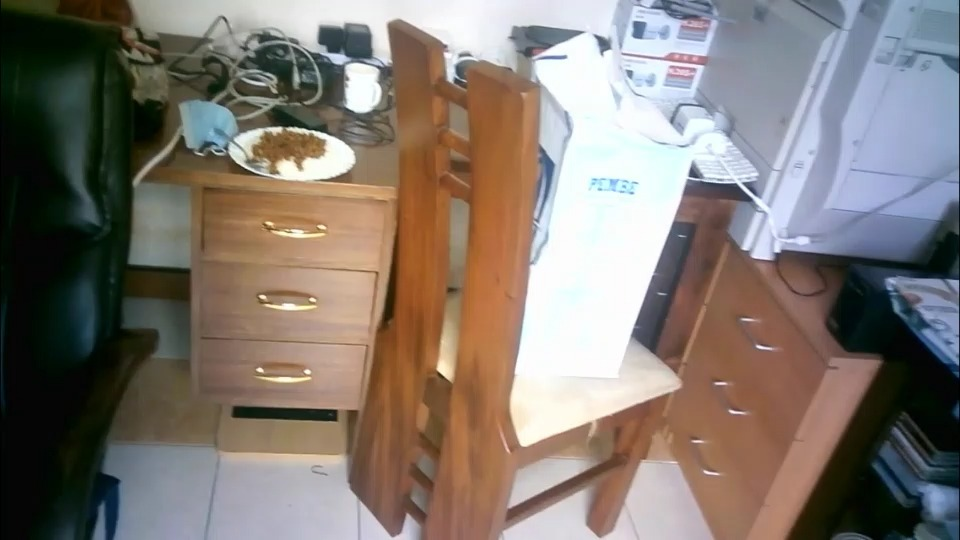wheat_flour_blue_label: (537, 40, 688, 378)
